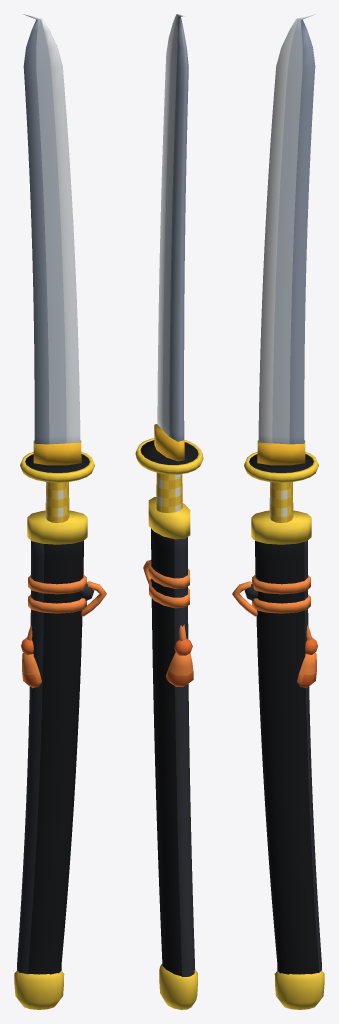
File: katana.glb
3 views of the same model, side by side, from view 1: azimuth 90°, elevation 25°; view 2: azimuth 210°, elevation 25°; view 3: azimuth 270°, elevation 25° (orthographic).
Parts seen in each view (by area): view 1: Scabbard, Blade, Katana; view 2: Scabbard, Blade, Katana; view 3: Scabbard, Blade, Katana.
Boxes of the visible parts, x1,y1,x2,y2 form: Scabbard: [14, 510, 106, 1009]; Blade: [23, 14, 80, 444]; Katana: [20, 440, 94, 688]; Scabbard: [143, 497, 197, 1009]; Blade: [157, 14, 188, 441]; Katana: [135, 424, 203, 686]; Scabbard: [232, 510, 324, 1009]; Blade: [258, 14, 315, 444]; Katana: [244, 440, 318, 688].
Size of the model in its own units: 0.1078 by 1.8 by 0.1516.
1 material, 1 textured.
